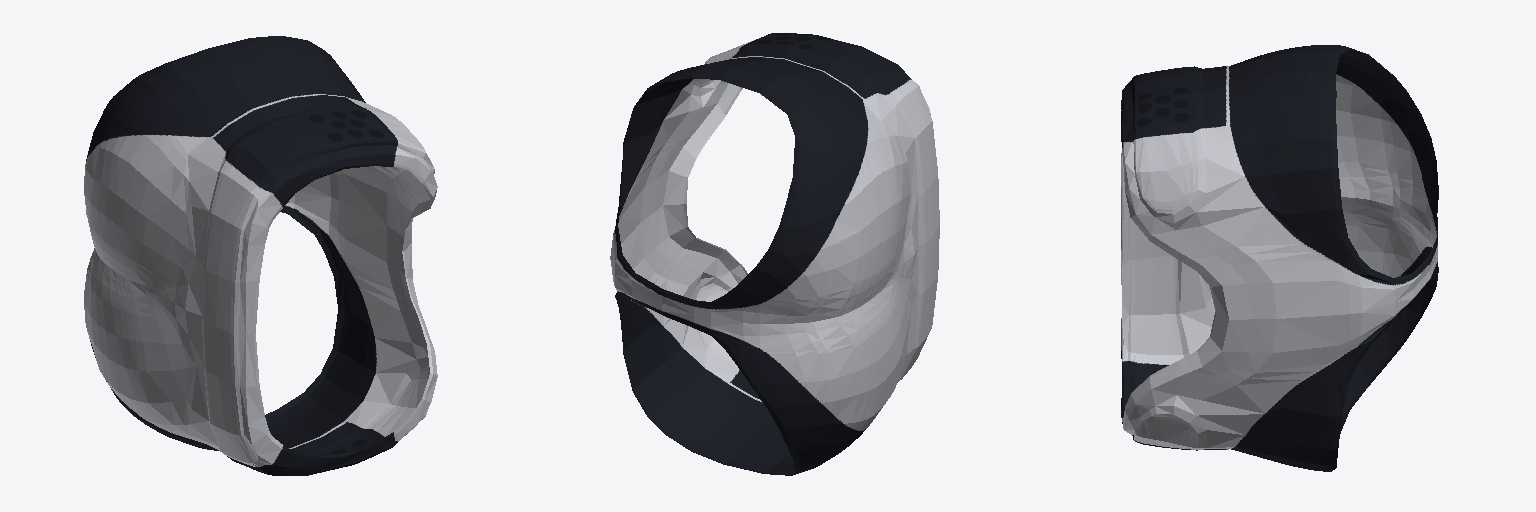
3 views of the same model, side by side, from view 1: azimuth 30°, elevation 25°; view 2: azimuth 150°, elevation 25°; view 3: azimuth 270°, elevation 25° (orthographic).
Parts seen in each view (by area): view 1: WAIST-7-FACES, WAIST_belt-9-FACES; view 2: WAIST-7-FACES, WAIST_belt-9-FACES; view 3: WAIST-7-FACES, WAIST_belt-9-FACES.
Part boxes in pixels (x1,y1,x2,y2): WAIST-7-FACES: (84,36,437,470); WAIST_belt-9-FACES: (202,104,434,475); WAIST-7-FACES: (610,49,933,475); WAIST_belt-9-FACES: (617,33,939,382); WAIST-7-FACES: (1121,45,1438,471); WAIST_belt-9-FACES: (1128,66,1367,450).
Bounding box in the file's own units: 0.2201 × 0.3138 × 0.2322.
Materials: 1 (1 with a texture image).